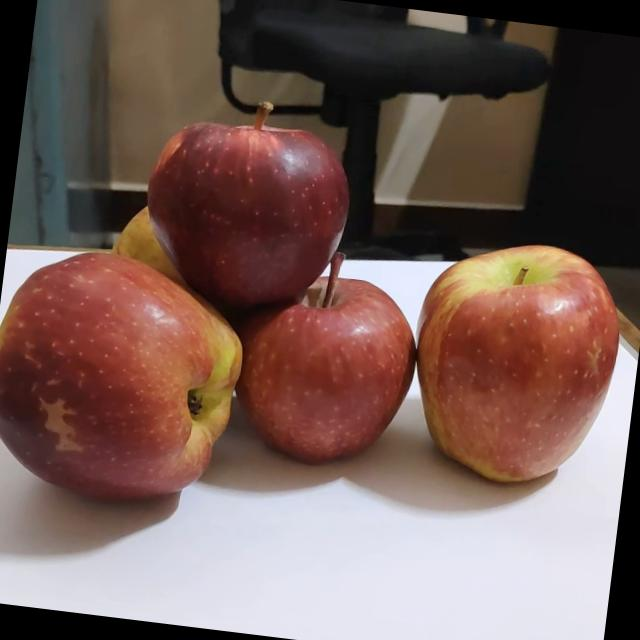apple: (0, 241, 266, 526), (403, 227, 635, 498), (137, 84, 370, 319), (227, 240, 438, 482), (102, 192, 222, 304)
